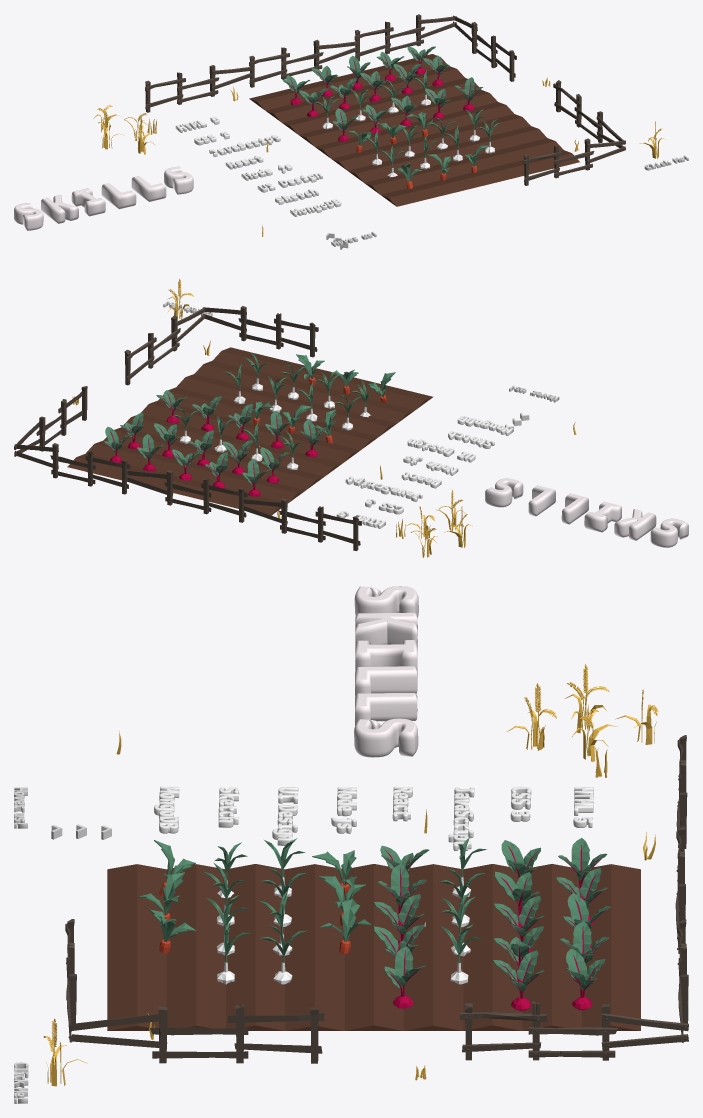
File: SkillModels.glb
The picture shows the model from 3 angles, top to bottom: view 1: azimuth 30°, elevation 25°; view 2: azimuth 150°, elevation 25°; view 3: azimuth 270°, elevation 25°; orthographic projection. The views are drawn at different scales.
Visible parts, largest first — view 1: floor, Fense_1.001, Text.008, React, Css, Html, JS, UI, sketch, Mongodb, Node, wheat1; view 2: floor, Fense_1.001, Text.008, Css, React, Html, JS, UI, Mongodb, sketch, Node, wheat1; view 3: floor, Fense_1.001, Text.008, Css, Html, React, JS, UI, Node, Mongodb, wheat1, sketch.
Boxes of the visible parts, box(x1,y1,x2,y2) form: floor: box(249, 54, 579, 206); Fense_1.001: box(145, 14, 625, 185); Text.008: box(14, 166, 193, 230); React: box(225, 77, 482, 169); Css: box(194, 55, 449, 145); Html: box(175, 46, 435, 132); JS: box(209, 70, 430, 156); UI: box(257, 109, 485, 192); sketch: box(275, 119, 501, 204); Mongodb: box(290, 145, 489, 216); Node: box(241, 112, 432, 180); wheat1: box(93, 105, 155, 154); floor: box(67, 347, 432, 515); Fense_1.001: box(14, 306, 361, 550); Text.008: box(485, 478, 688, 547); Css: box(120, 412, 403, 514); React: box(156, 390, 441, 488); Html: box(104, 426, 385, 528); JS: box(172, 408, 422, 501); UI: box(224, 364, 475, 462); Mongodb: box(296, 354, 513, 435); sketch: box(244, 352, 494, 448); Node: box(252, 401, 458, 475); wheat1: box(406, 490, 472, 557); floor: box(107, 864, 640, 1030); Fense_1.001: box(65, 735, 688, 1063); Text.008: box(354, 586, 418, 757); Css: box(493, 786, 544, 1010); Html: box(556, 787, 610, 1010); React: box(373, 786, 429, 1008); JS: box(439, 787, 486, 984); UI: box(258, 787, 307, 984); Node: box(312, 787, 371, 954); Mongodb: box(138, 786, 196, 953); wheat1: box(507, 664, 658, 761); sketch: box(202, 787, 251, 984).
Bounding box in the file's own units: 19.79 × 1.72 × 11.31.
